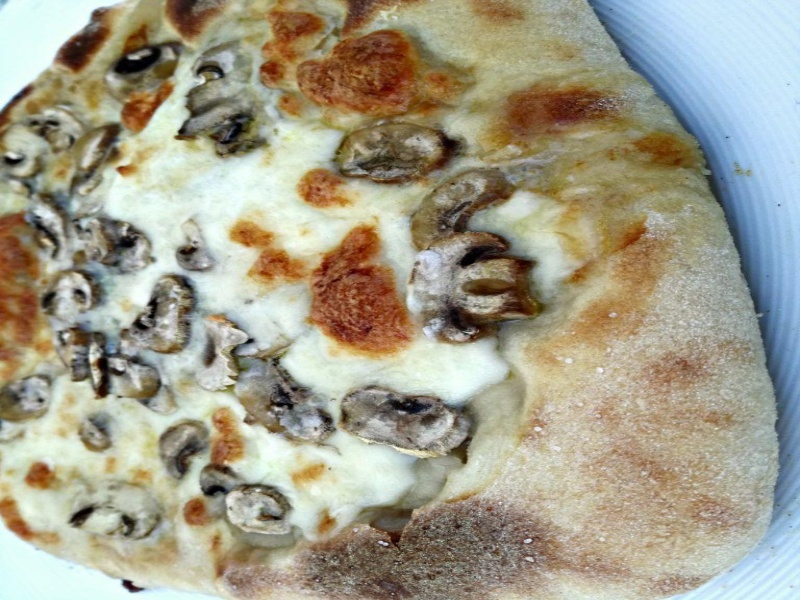champignon: (403, 228, 563, 347), (333, 384, 477, 468), (323, 118, 450, 187)
